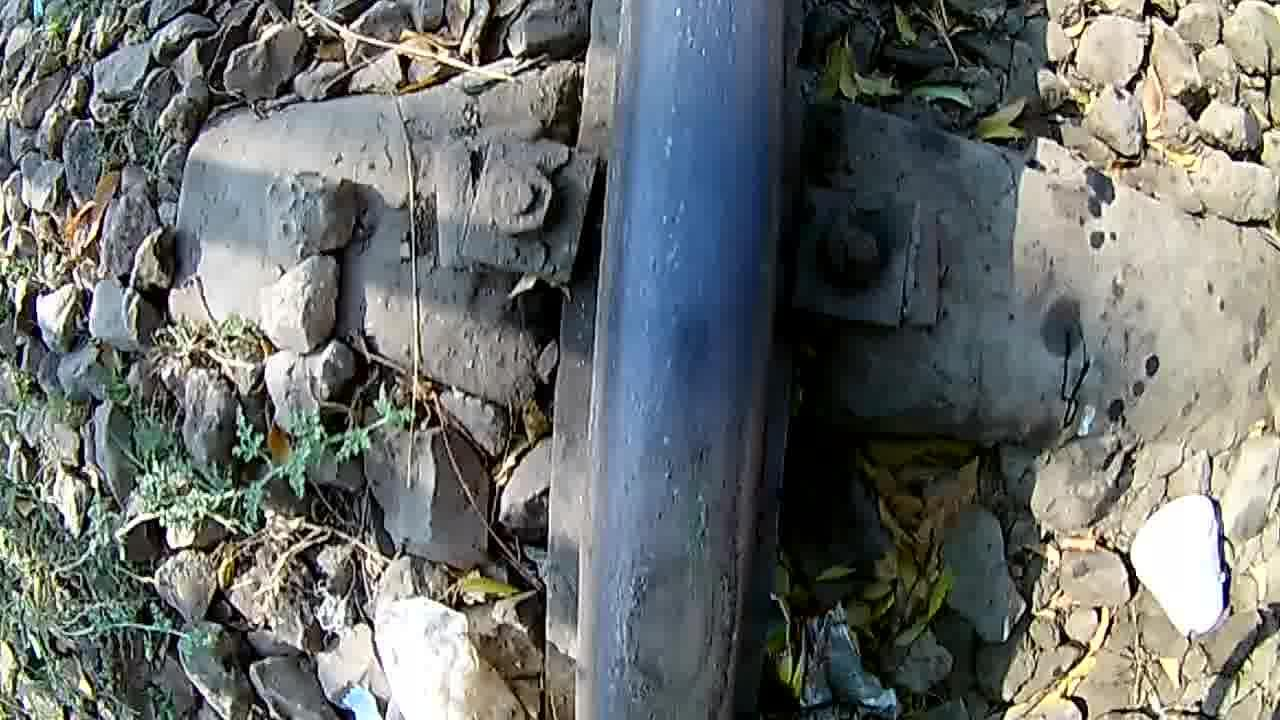bolt_missing: (602, 340, 764, 720)
